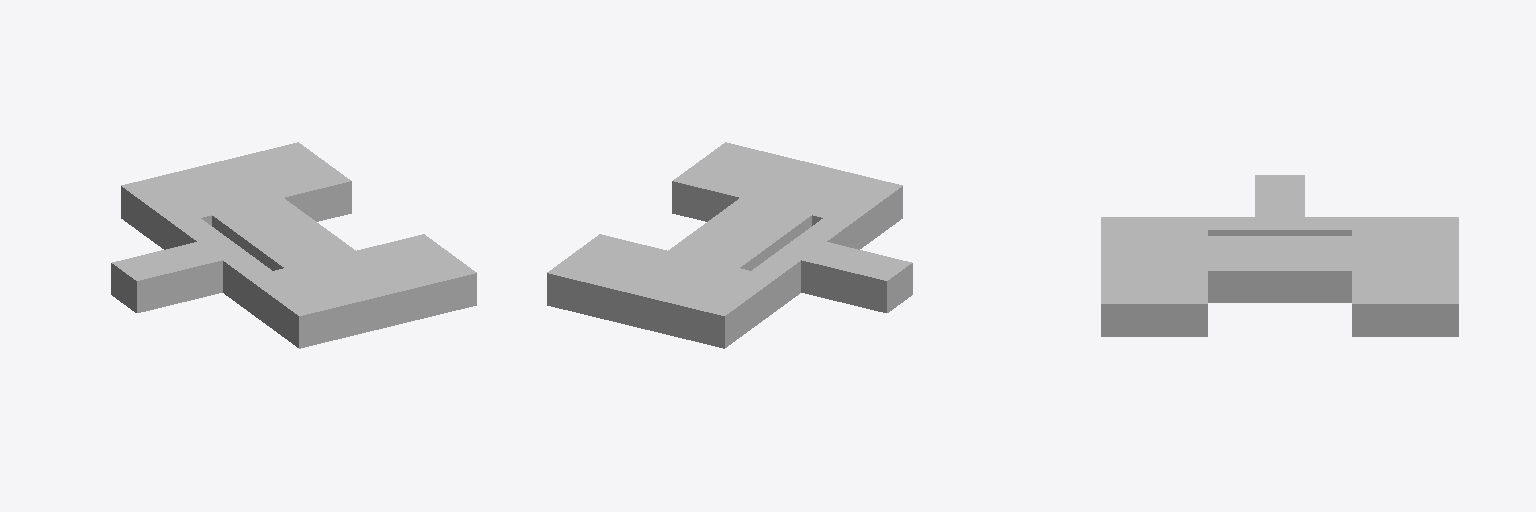
The model's file is Floor.obj.
3 renders of one model, left to right at view 1: azimuth 30°, elevation 25°; view 2: azimuth 150°, elevation 25°; view 3: azimuth 270°, elevation 25°, orthographic.
Visible parts, largest first — view 1: Plane; view 2: Plane; view 3: Plane.
Part boxes in pixels (x1,y1,x2,y2): Plane: (111,142,476,348); Plane: (547,142,912,348); Plane: (1101,175,1458,336).
Size of the model in its own units: 341 by 40 by 400.